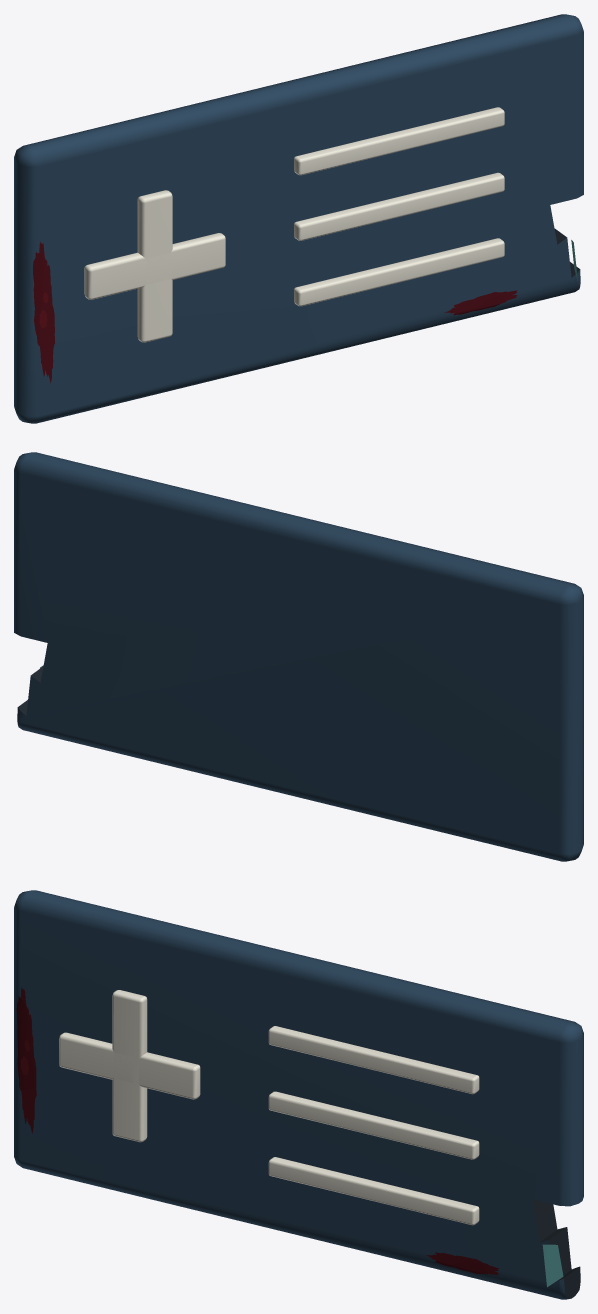
File: lobby_t2_wayfinding.glb
3 renders of one model, top to bottom at view 1: azimuth 30°, elevation 25°; view 2: azimuth 150°, elevation 25°; view 3: azimuth 330°, elevation 25°, orthographic.
Visible parts, largest first — view 1: lobby_t2_wayfinding_Outbreak_Static; view 2: lobby_t2_wayfinding_Outbreak_Static; view 3: lobby_t2_wayfinding_Outbreak_Static.
Part boxes in pixels (box(x1,y1,x2,y2)): lobby_t2_wayfinding_Outbreak_Static: box(14, 14, 583, 423); lobby_t2_wayfinding_Outbreak_Static: box(14, 452, 583, 861); lobby_t2_wayfinding_Outbreak_Static: box(14, 890, 583, 1299).
Bounding box in the file's own units: 0.9 × 0.42 × 0.069.
